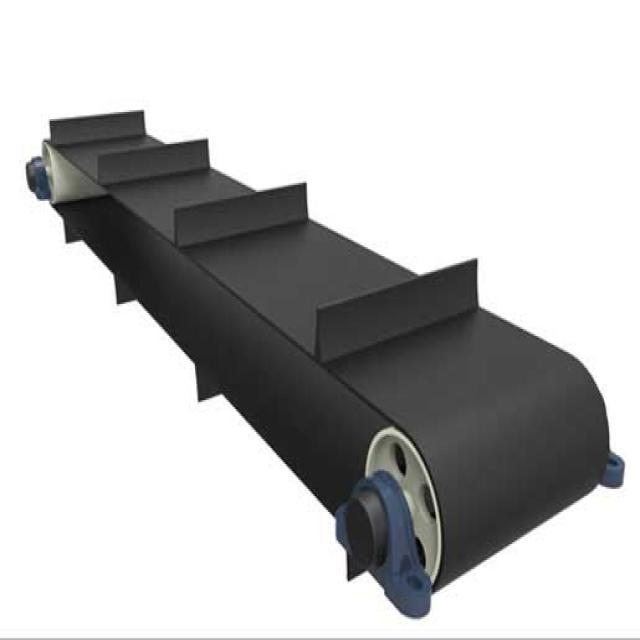conveyor: (15, 65, 628, 626)
